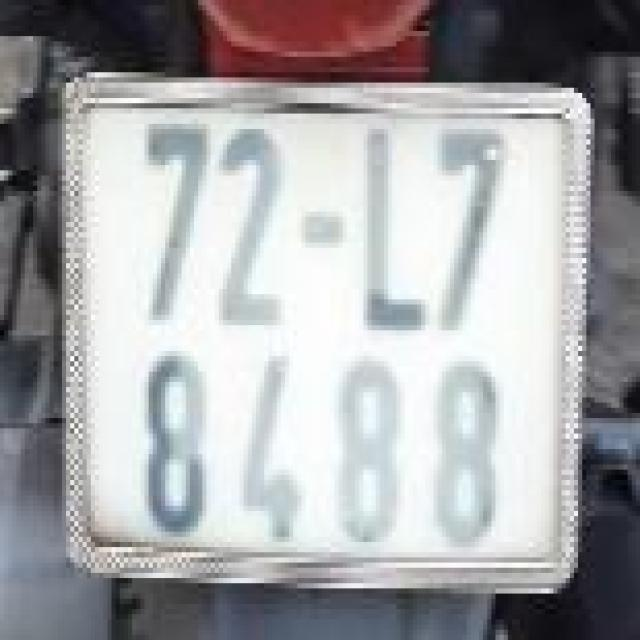2: (215, 121, 293, 338)
4: (231, 358, 310, 550)
7: (431, 118, 510, 340), (134, 116, 213, 328)
8: (425, 356, 504, 558), (138, 346, 217, 542), (328, 351, 407, 547)
L: (349, 116, 427, 338)
